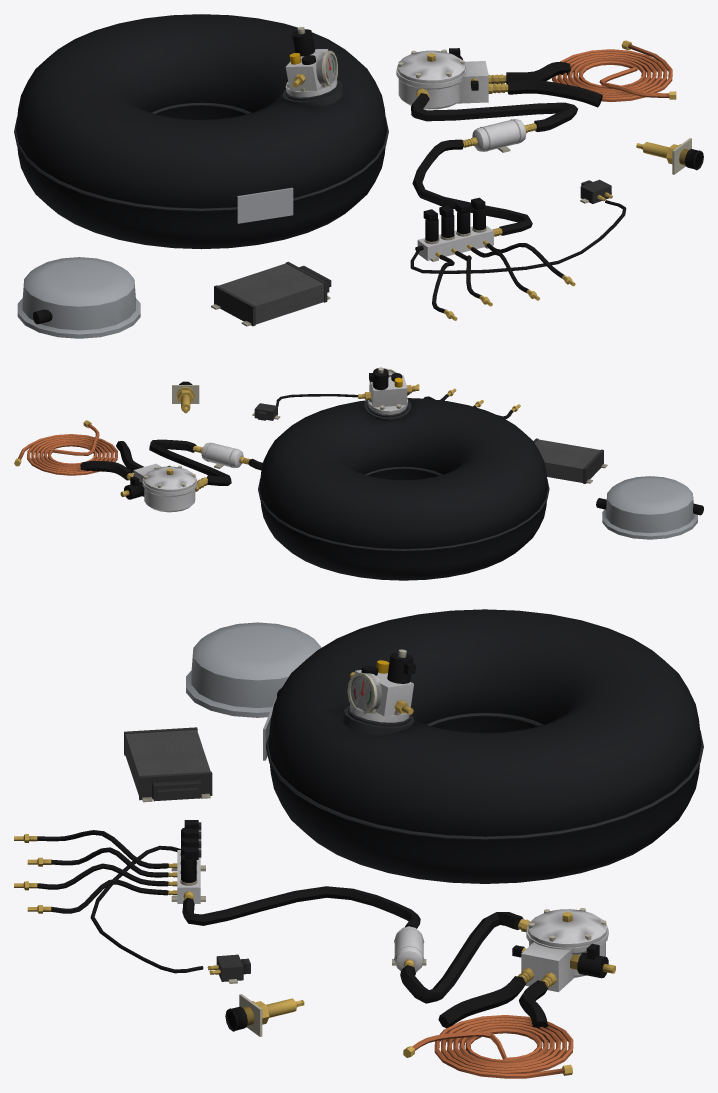
Rendered from lpg_kit-lo-v1.glb.
The picture shows the model from 3 angles, top to bottom: view 1: azimuth 30°, elevation 25°; view 2: azimuth 150°, elevation 25°; view 3: azimuth 270°, elevation 25°; orthographic projection. The views are drawn at different scales.
Parts seen in each view (by area): view 1: tank_geo, valve_housing_geo, hoses_geo, ecu_geo, reducer_geo, gas_line_geo, multivalve, nozzle_hoses_geo, filter_geo, injector_rail, fill_valve_geo, map_sensor_geo; view 2: tank_geo, valve_housing_geo, reducer_geo, gas_line_geo, hoses_geo, ecu_geo, multivalve, filter_geo, fill_valve_geo, map_sensor_geo; view 3: tank_geo, hoses_geo, valve_housing_geo, gas_line_geo, reducer_geo, ecu_geo, multivalve, nozzle_hoses_geo, fill_valve_geo, filter_geo, injector_rail, map_sensor_geo.
Boxes of the visible parts, bbox=[...] form: tank_geo: bbox=[14, 14, 388, 249]; valve_housing_geo: bbox=[17, 257, 140, 338]; hoses_geo: bbox=[410, 62, 626, 273]; ecu_geo: bbox=[211, 261, 331, 326]; reducer_geo: bbox=[396, 48, 508, 109]; gas_line_geo: bbox=[552, 40, 676, 101]; multivalve: bbox=[285, 27, 337, 97]; nozzle_hoses_geo: bbox=[432, 243, 575, 320]; filter_geo: bbox=[462, 119, 536, 152]; injector_rail: bbox=[415, 225, 502, 261]; fill_valve_geo: bbox=[636, 138, 703, 174]; map_sensor_geo: bbox=[580, 179, 612, 203]; tank_geo: bbox=[258, 398, 549, 580]; valve_housing_geo: bbox=[596, 476, 703, 539]; reducer_geo: bbox=[120, 463, 207, 512]; gas_line_geo: bbox=[14, 420, 117, 475]; hoses_geo: bbox=[80, 394, 357, 485]; ecu_geo: bbox=[533, 438, 607, 483]; multivalve: bbox=[358, 367, 419, 414]; filter_geo: bbox=[192, 442, 250, 468]; fill_valve_geo: bbox=[172, 381, 199, 413]; map_sensor_geo: bbox=[252, 403, 280, 420]; tank_geo: bbox=[263, 609, 703, 883]; hoses_geo: bbox=[90, 845, 548, 1028]; valve_housing_geo: bbox=[186, 622, 321, 717]; gas_line_geo: bbox=[403, 1015, 573, 1078]; reducer_geo: bbox=[512, 908, 615, 992]; ecu_geo: bbox=[124, 727, 212, 802]; multivalve: bbox=[347, 649, 416, 722]; nozzle_hoses_geo: bbox=[14, 830, 168, 913]; fill_valve_geo: bbox=[225, 994, 304, 1036]; filter_geo: bbox=[392, 926, 426, 972]; injector_rail: bbox=[168, 850, 205, 903]; map_sensor_geo: bbox=[207, 954, 250, 983].
Size of the model in its own units: 1.46 by 0.3194 by 1.
16 materials, 4 textured.
